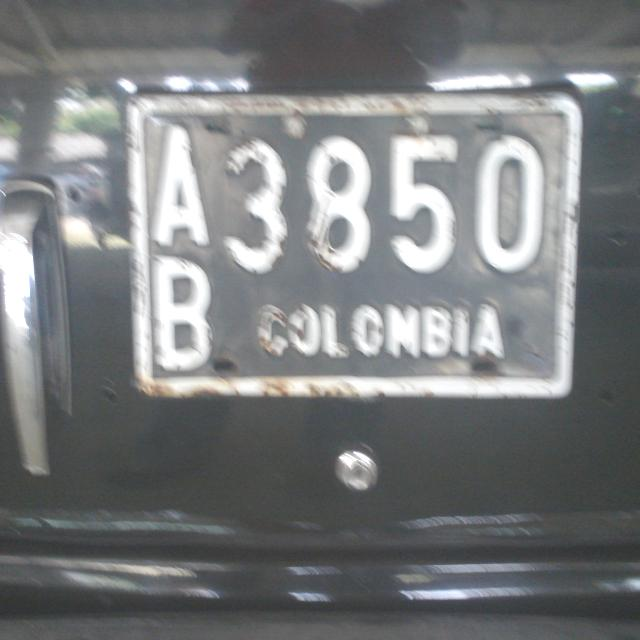placa: (122, 82, 585, 410)
